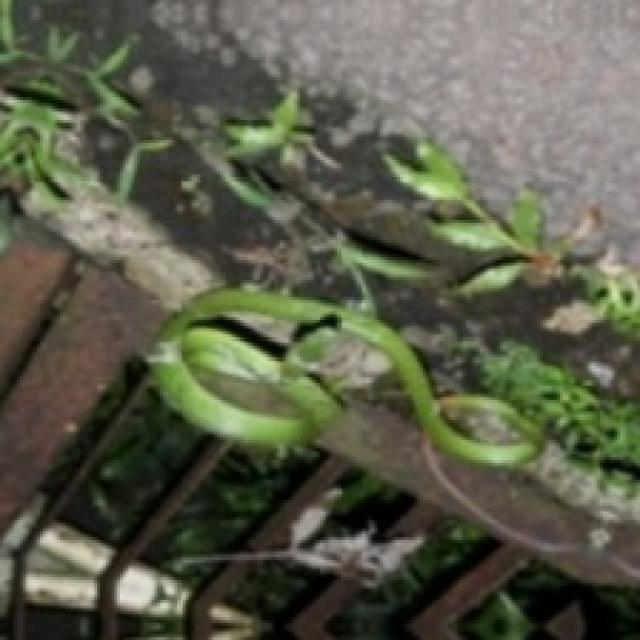red-tailed green ratsnake: (149, 289, 540, 463)
